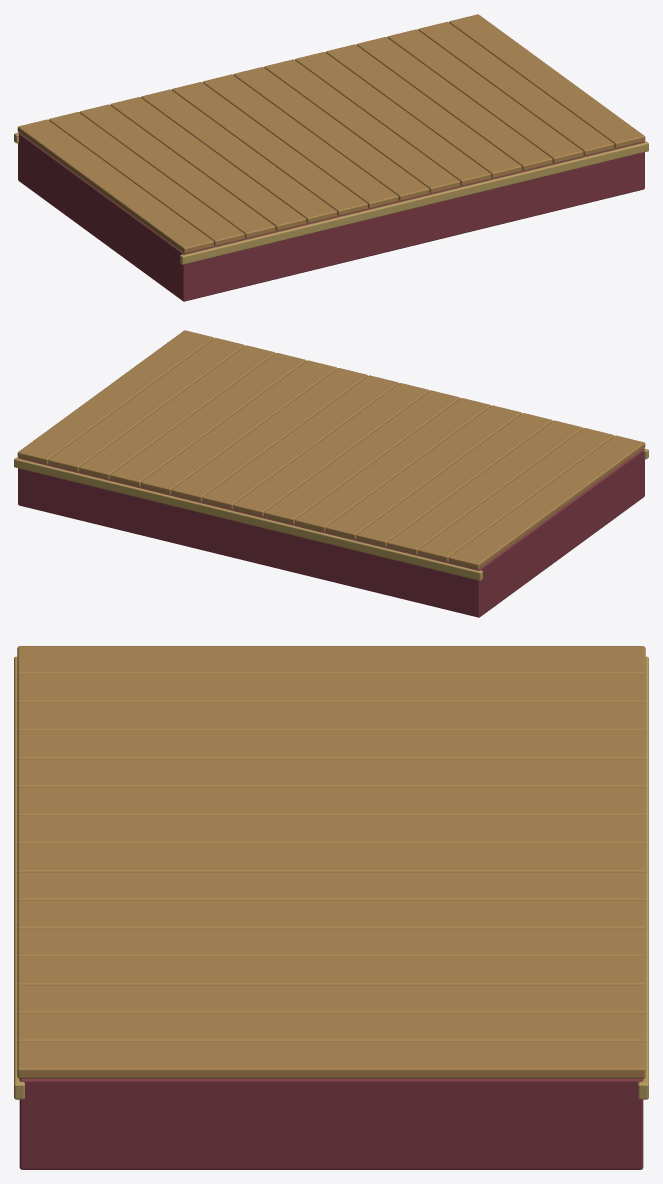
The model's file is abandoned-puppet-theatre-and-prop-vault-raised-puppet--3ae52a70.glb.
3 views of the same model, one above another, from view 1: azimuth 30°, elevation 25°; view 2: azimuth 150°, elevation 25°; view 3: azimuth 270°, elevation 25° (orthographic). The views are drawn at different scales.
Visible parts, largest first — view 1: raised-puppet-stage; view 2: raised-puppet-stage; view 3: raised-puppet-stage.
Part boxes in pixels (x1,y1,x2,y2): raised-puppet-stage: [14, 14, 648, 301]; raised-puppet-stage: [14, 330, 648, 617]; raised-puppet-stage: [14, 646, 648, 1169].
Size of the model in its own units: 4.55 by 0.5049 by 2.85.
